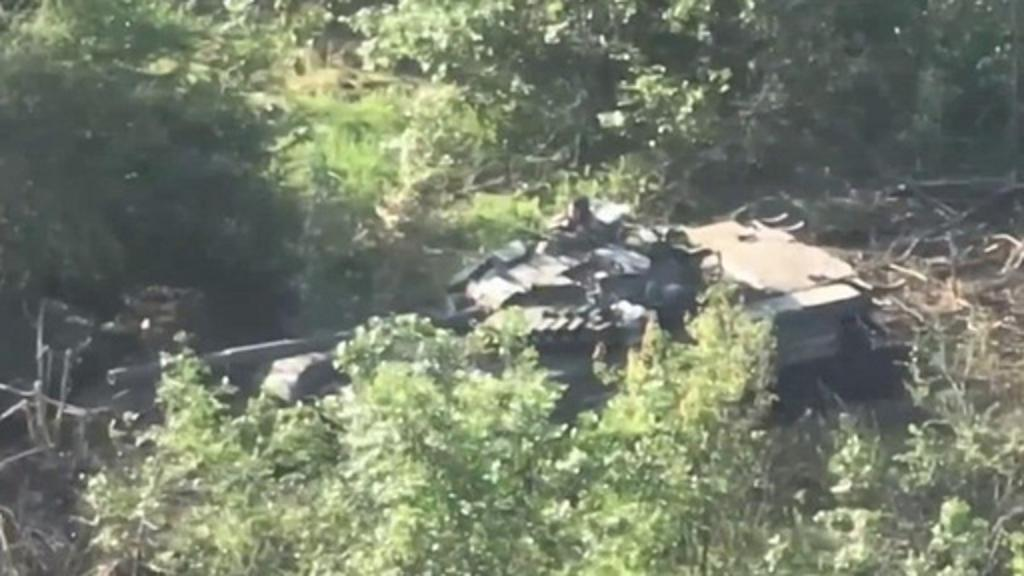TANK: (100, 188, 870, 478)
